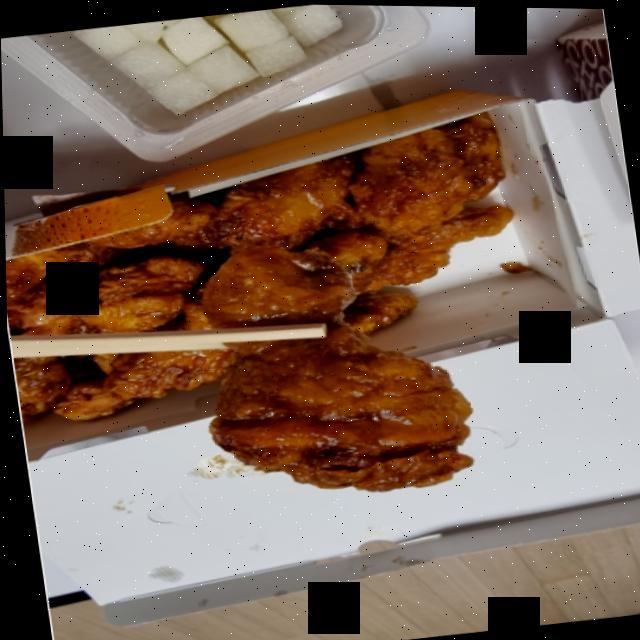Frango: (2, 91, 640, 565)
